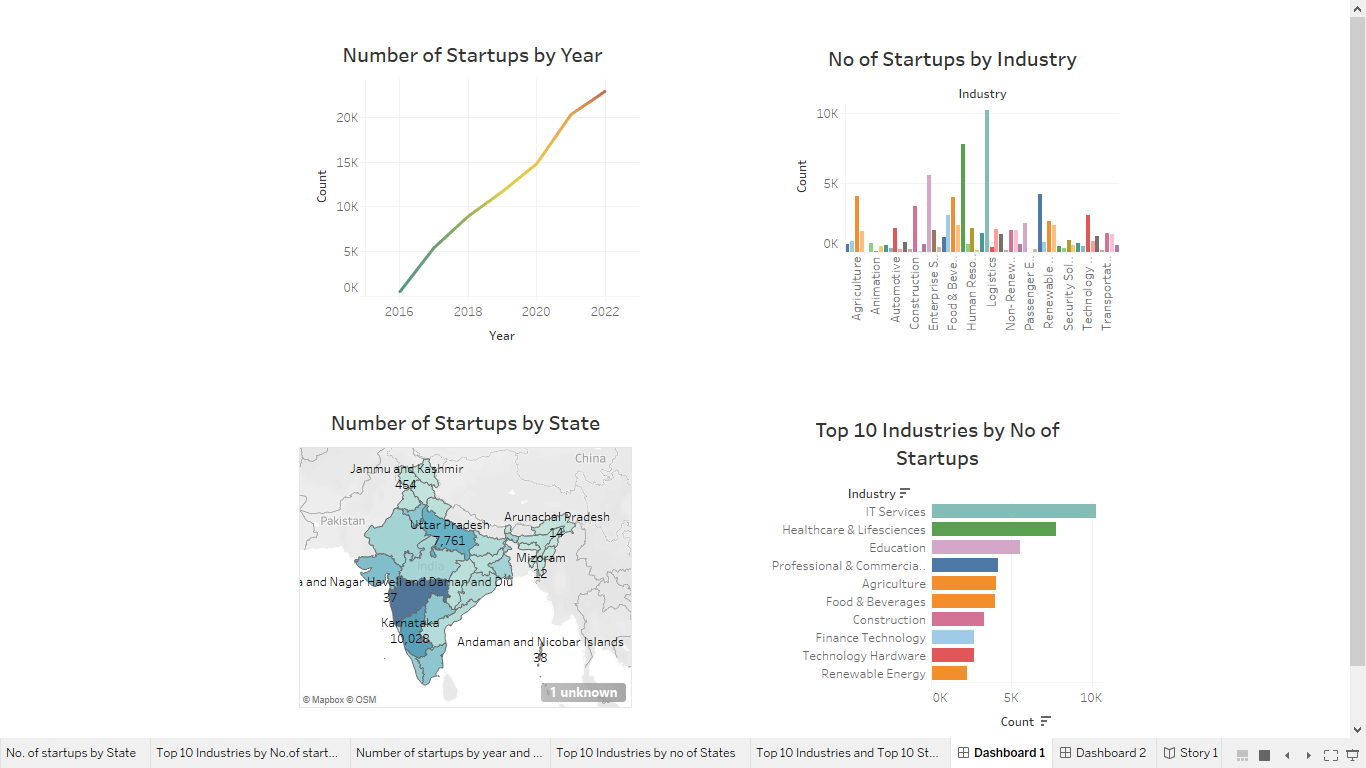

The page's visual inventory and layout, read from the dashboard file:
{"tool":"tableau","page":{"name":"Dashboard 1","canvas":[1000,800],"ordinal":0},"visuals":[{"type":"worksheet","title":"No. of startups by Year","mark":"Automatic","rows":["Count"],"cols":["Year"],"box":[132,36,333,315]},{"type":"worksheet","title":"No. of startups by Industry","mark":"Automatic","rows":["Count"],"cols":["Industry"],"box":[612,40,333,292]},{"type":"worksheet","title":"No. of startups by State","mark":"Automatic","box":[125,404,333,304]},{"type":"worksheet","title":"Top 10 Industries by No.of startups","mark":"Automatic","rows":["Industry"],"cols":["Count"],"box":[597,411,333,326]}]}

Visuals, with their boxes on the page's 1000x800 design canvas (x1, y1, x2, y2). These are canvas units, not pixel positions in the 1366x768 screenshot, which may show the page scaled, cropped or inside an application window:
"No. of startups by Year" worksheet: Rect(132, 36, 465, 351)
"No. of startups by Industry" worksheet: Rect(612, 40, 945, 332)
"No. of startups by State" worksheet: Rect(125, 404, 458, 708)
"Top 10 Industries by No.of startups" worksheet: Rect(597, 411, 930, 737)
